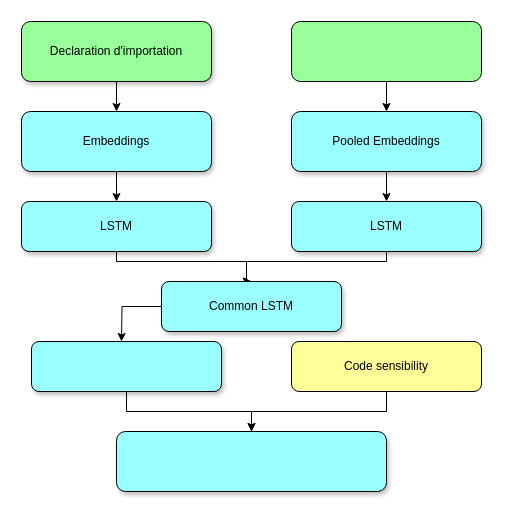
Some shapes in this 505 by 516 pixel diagram are drawn without their labels. Each missing label, with the centre of its shape:
Declarations d'importation ayant même code nomenclature: the point at 386,51
Dense (Fraude Probability): the point at 252,462
Dense (Similarity): the point at 127,367
